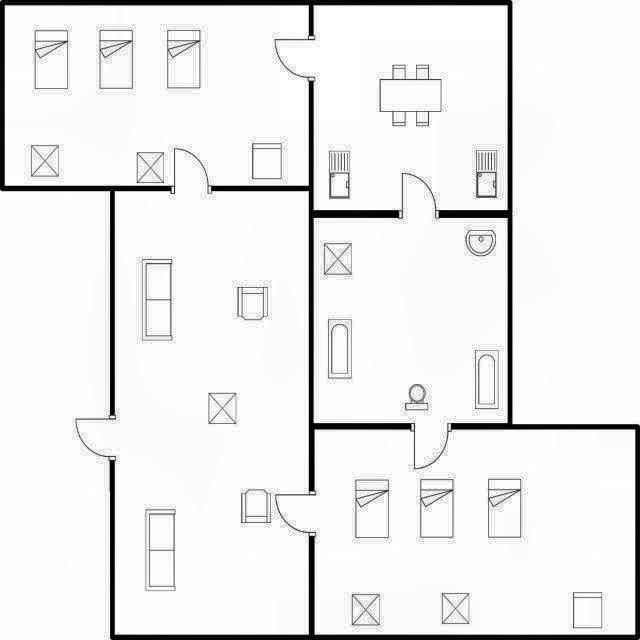room: (115, 191, 309, 635), (314, 429, 635, 634), (6, 5, 308, 185), (313, 217, 507, 424), (313, 5, 508, 210)
